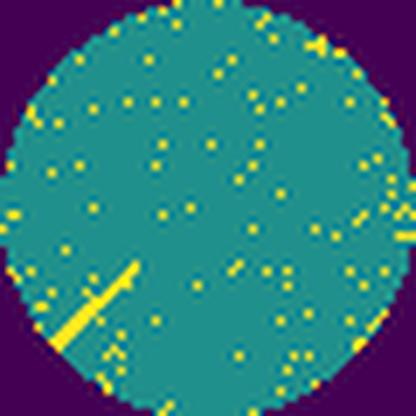Scratch: (48, 252, 146, 357)
